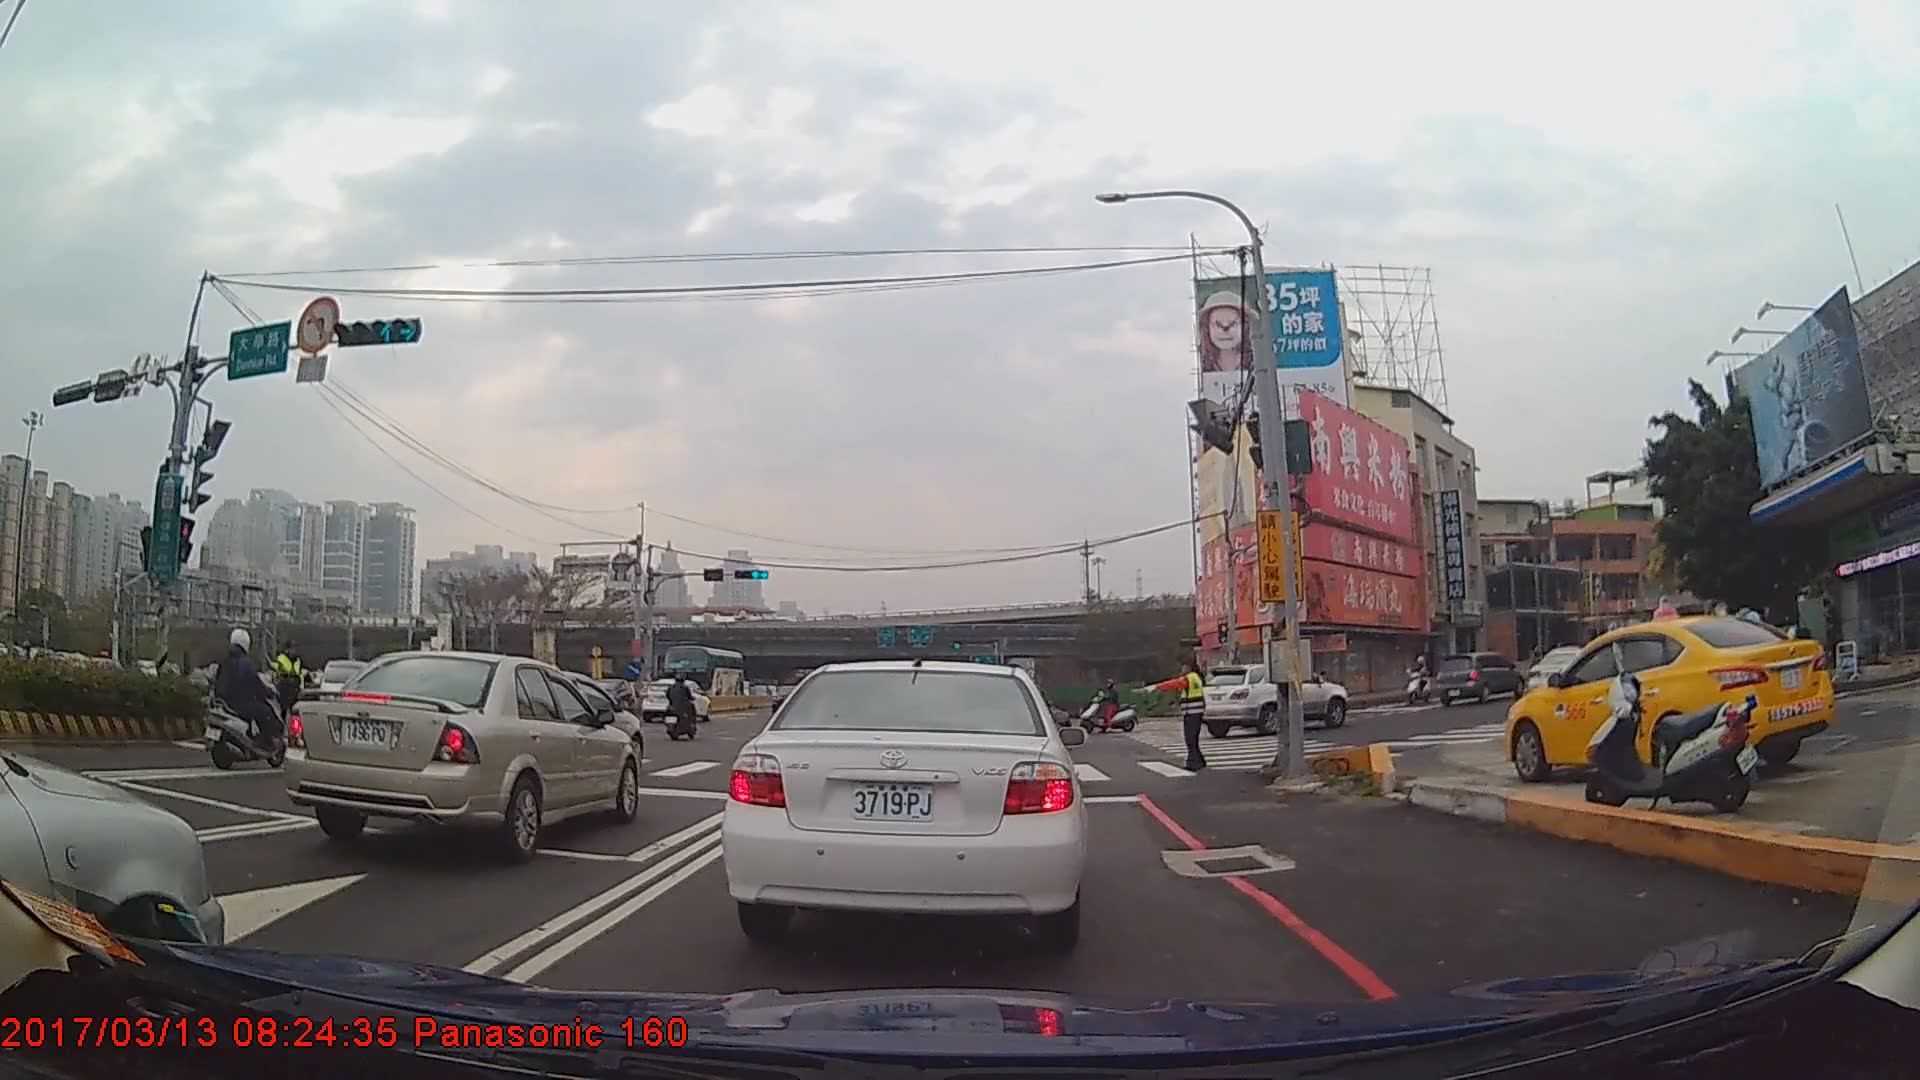pedestrian: (1130, 656, 1215, 776), (266, 638, 313, 749)
rider: (204, 625, 292, 769), (1082, 679, 1140, 734), (665, 673, 701, 741), (1405, 655, 1434, 704), (667, 677, 691, 735)
vehicle: (716, 654, 1087, 946), (283, 649, 638, 862), (1503, 609, 1832, 788), (1195, 661, 1347, 736), (1429, 650, 1521, 707), (661, 645, 743, 702), (1524, 645, 1599, 704), (639, 676, 709, 727)
